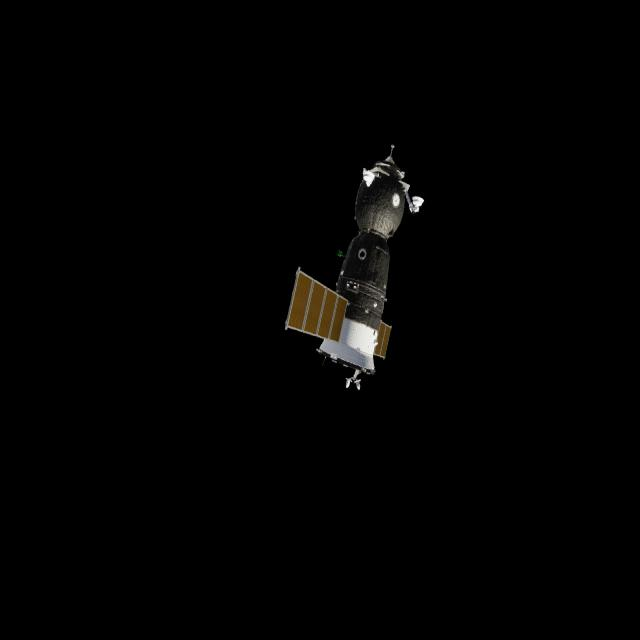Satellites revolving around earth: (283, 142, 426, 393)
